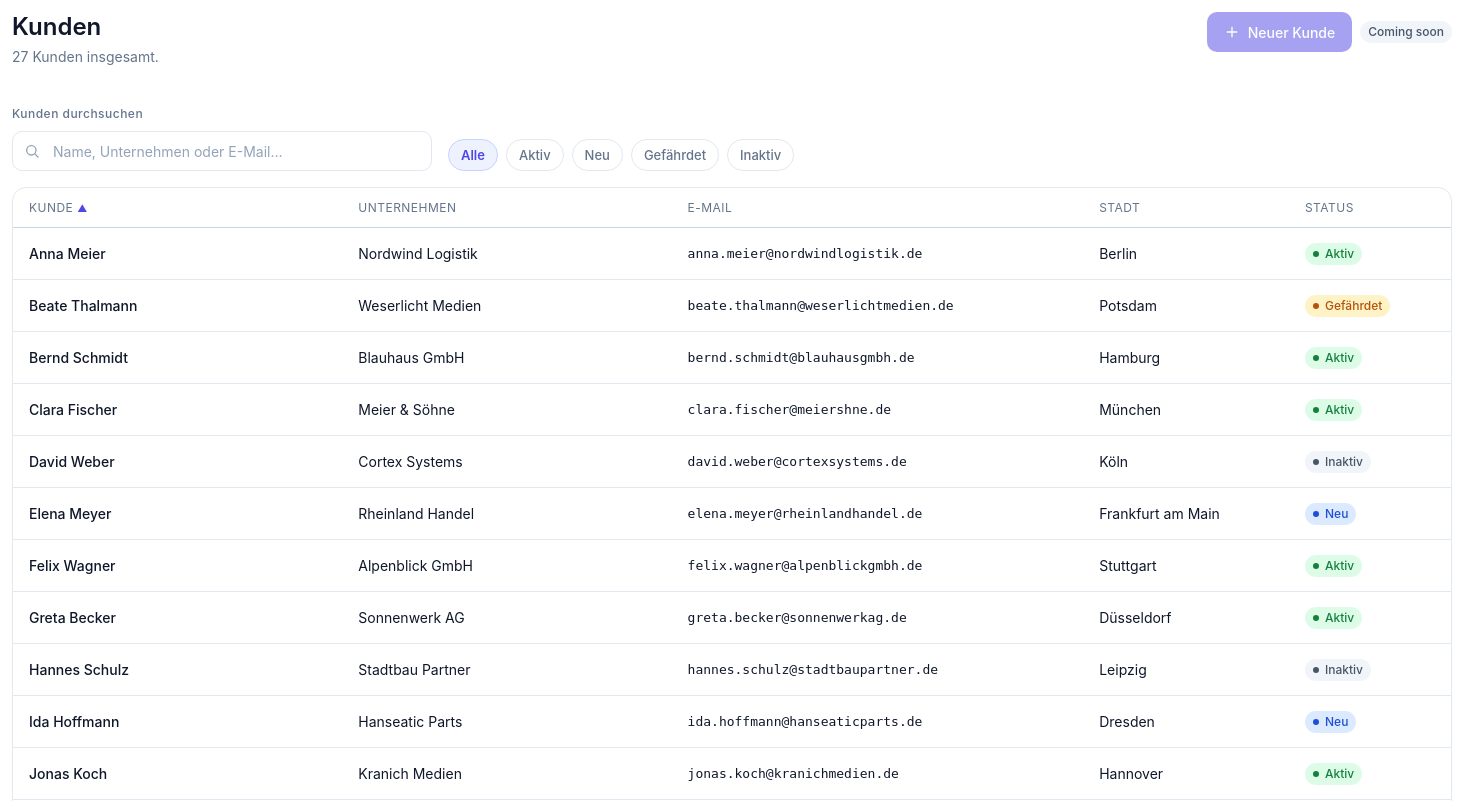
Test: CustomerListScreen › filters by the new Gefährdet status chip
Click the button "Gefährdet" at [675, 155], box [631,139,719,171]
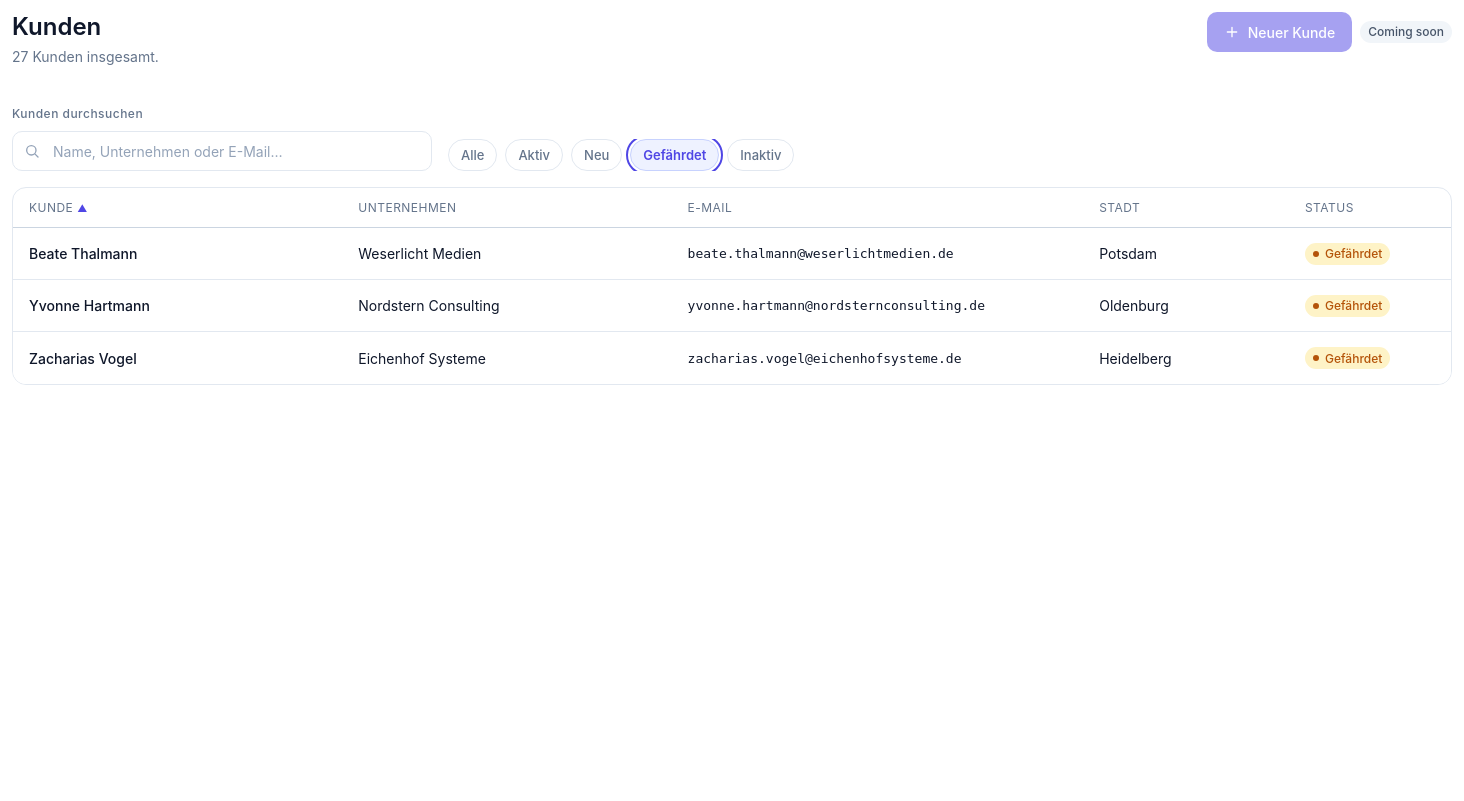
Expected: the number of buttons with test id "customer-row" is 3, [13,228,1451,280]; [13,280,1451,332]; [13,332,1451,384]
